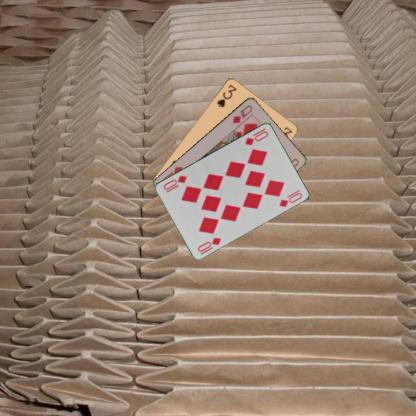10d: (242, 126, 269, 146), (195, 235, 222, 253)
3s: (214, 82, 237, 108)
Qd: (230, 102, 254, 125)
